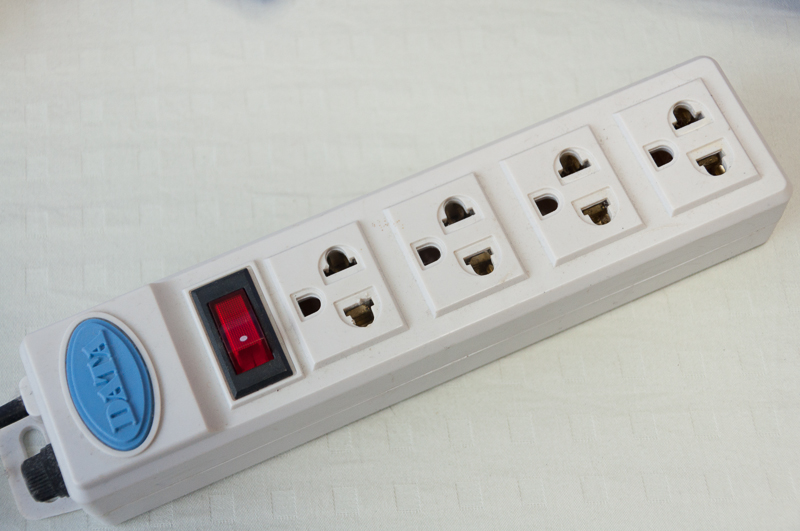Three_eye_plug: (6, 48, 795, 529)
